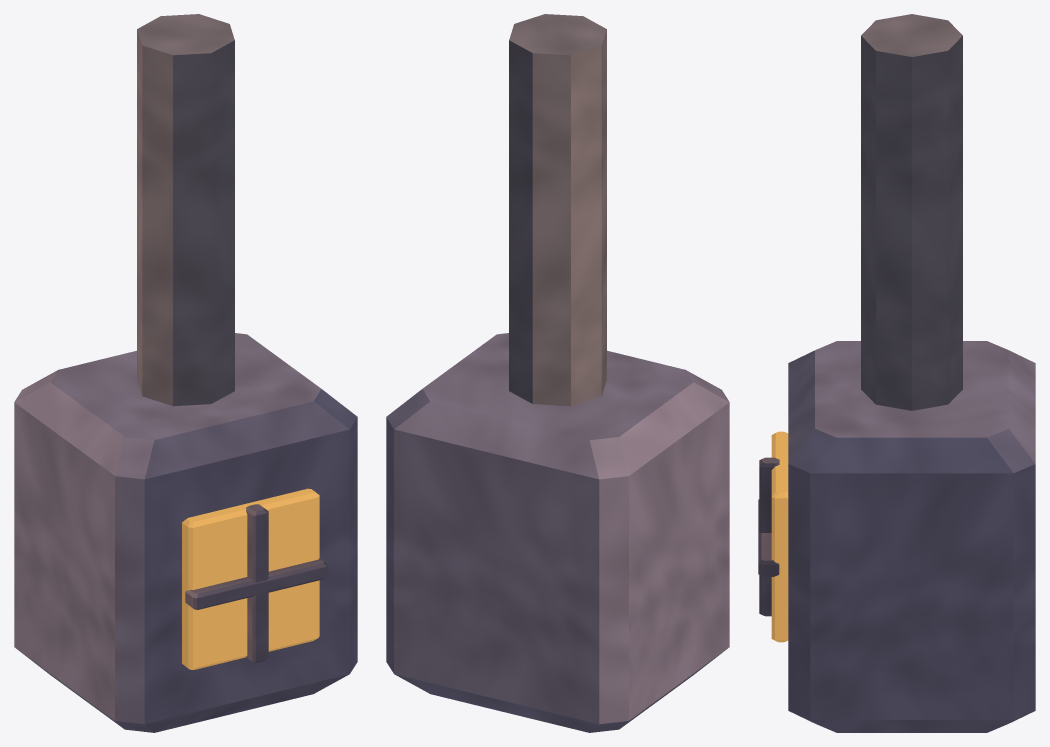
The model's file is furniture_stove.glb.
3 views of the same model, side by side, from view 1: azimuth 30°, elevation 25°; view 2: azimuth 150°, elevation 25°; view 3: azimuth 270°, elevation 25° (orthographic).
Visible parts, largest first — view 1: Kleiner Kachelofen; view 2: Kleiner Kachelofen; view 3: Kleiner Kachelofen.
Part boxes in pixels (bbox=[...]): Kleiner Kachelofen: bbox=[14, 14, 357, 732]; Kleiner Kachelofen: bbox=[386, 14, 729, 732]; Kleiner Kachelofen: bbox=[758, 14, 1035, 732].
Bounding box in the file's own units: 0.72 × 1.83 × 0.7065.
Materials: 2 (1 with a texture image).
